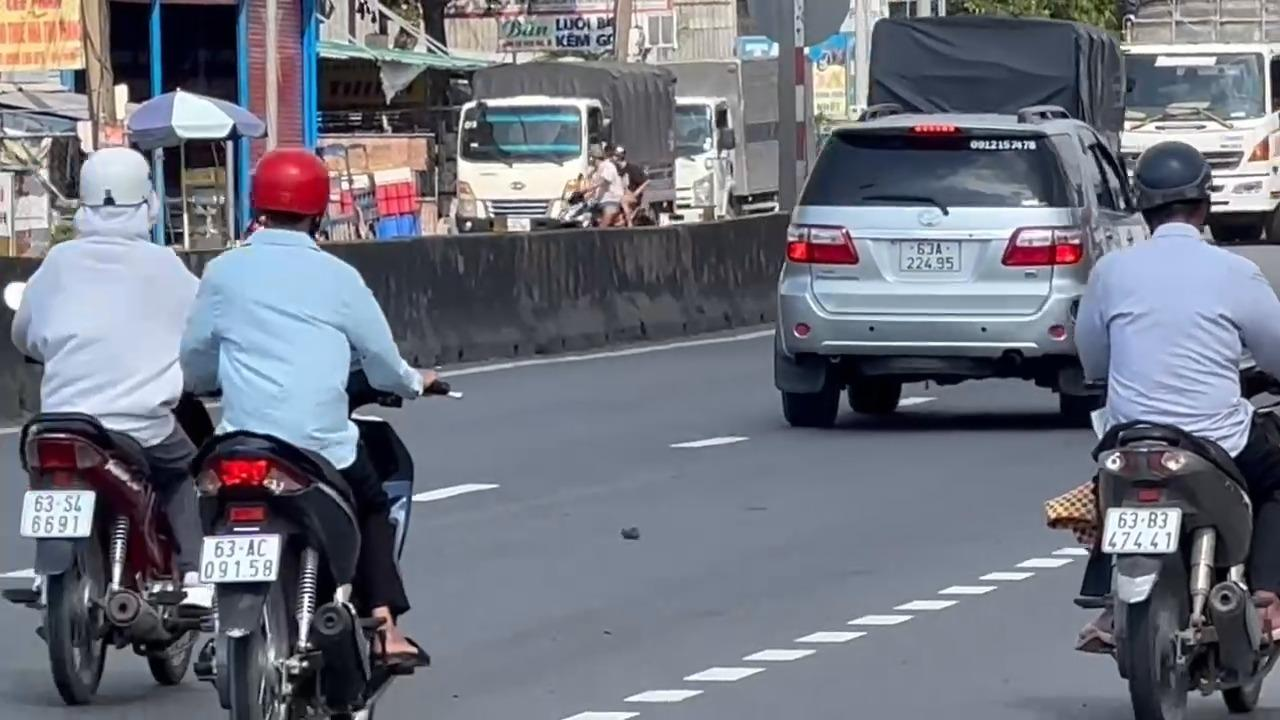bien_so: (198, 532, 281, 583), (1100, 505, 1181, 554), (19, 488, 96, 538), (896, 239, 962, 273)
